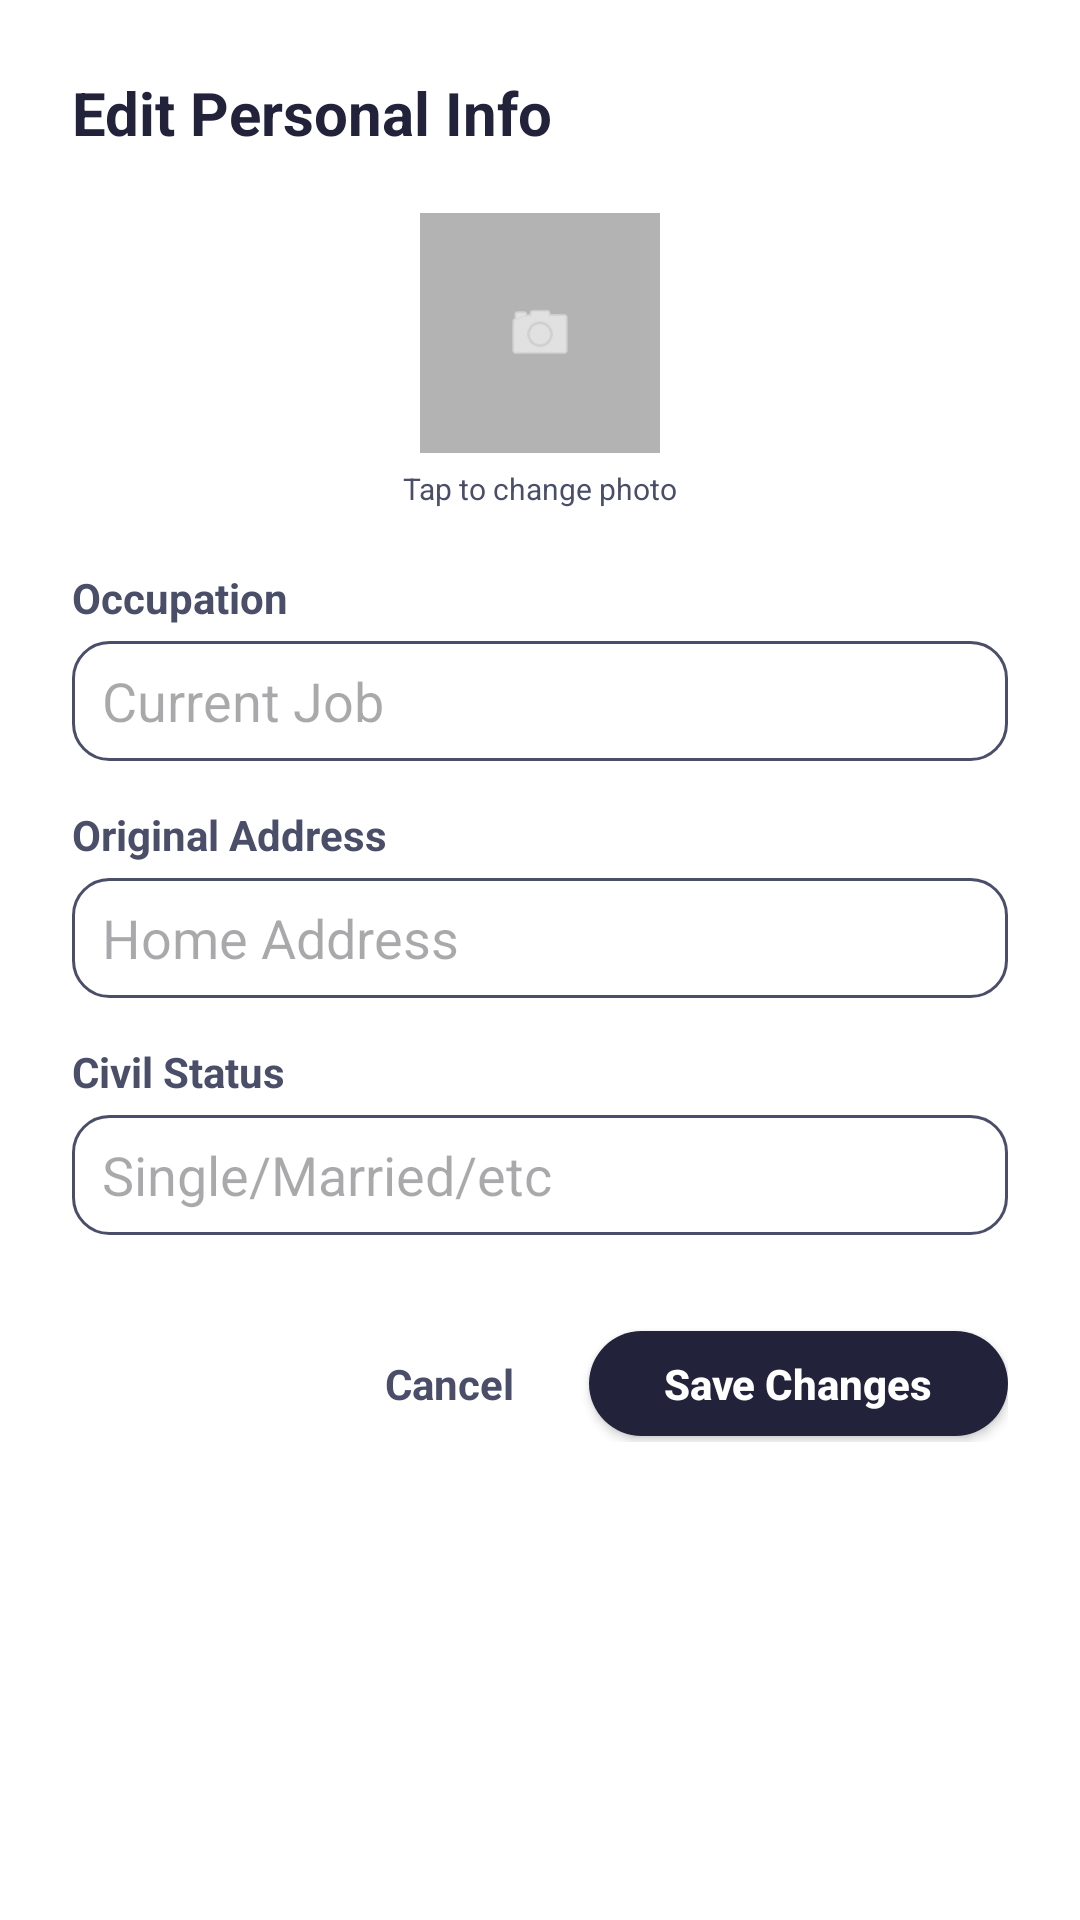

Locate icon controls on the screen. Image size 1080*1920, boxes as [x1=x1, y1=y1, x2=x2, y2=y2].
camera: [x1=513, y1=310, x2=567, y2=353]
